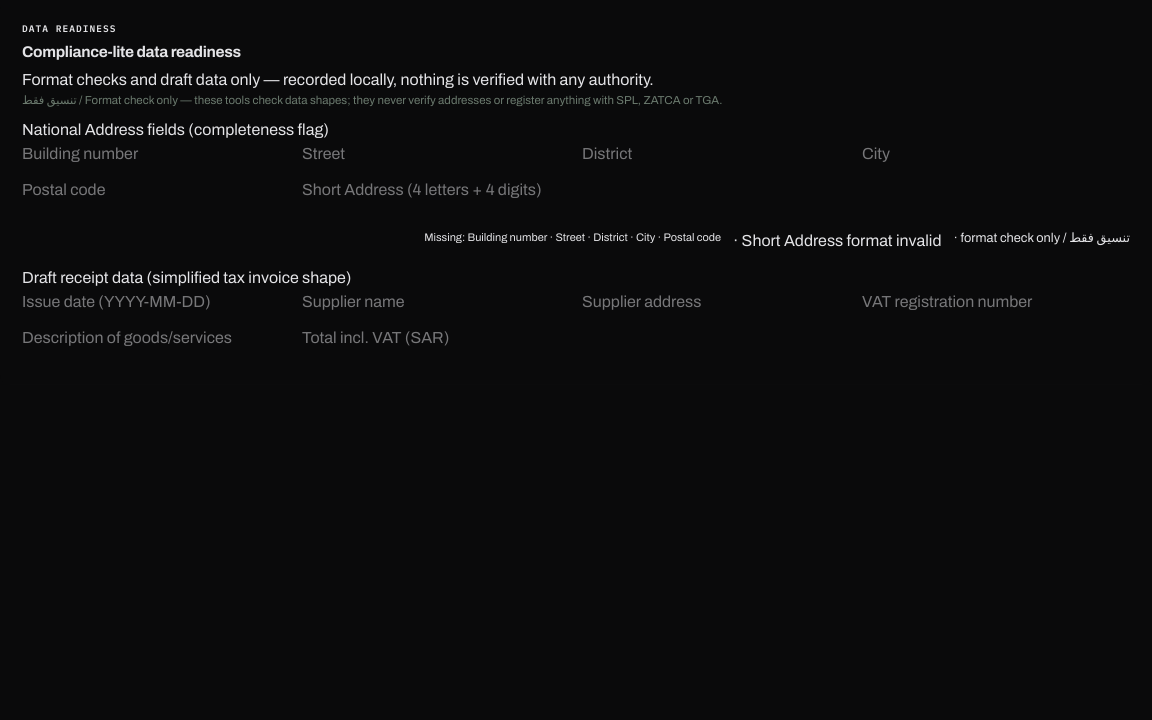
Test: ComplianceLiteView › builds a draft receipt row with derived VAT and a QR payload (EN)
This screenshot has width=1152, height=720.
Type "2026-03-01" into the field labelled "Issue date (YYYY-MM-DD)".
click(156, 302); type("2026-03-01")  # box [22,290,290,314]
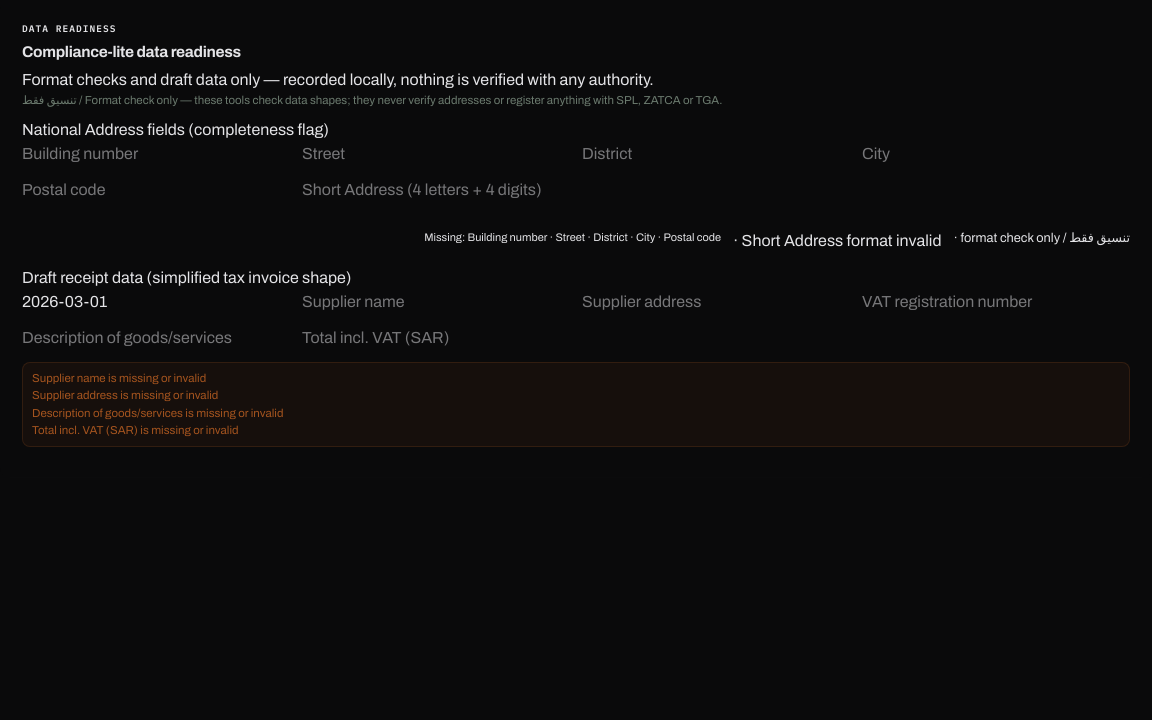
Type "Bobs Records" into the field labelled "Supplier name".
click(436, 302); type("Bobs Records")  # box [302,290,570,314]
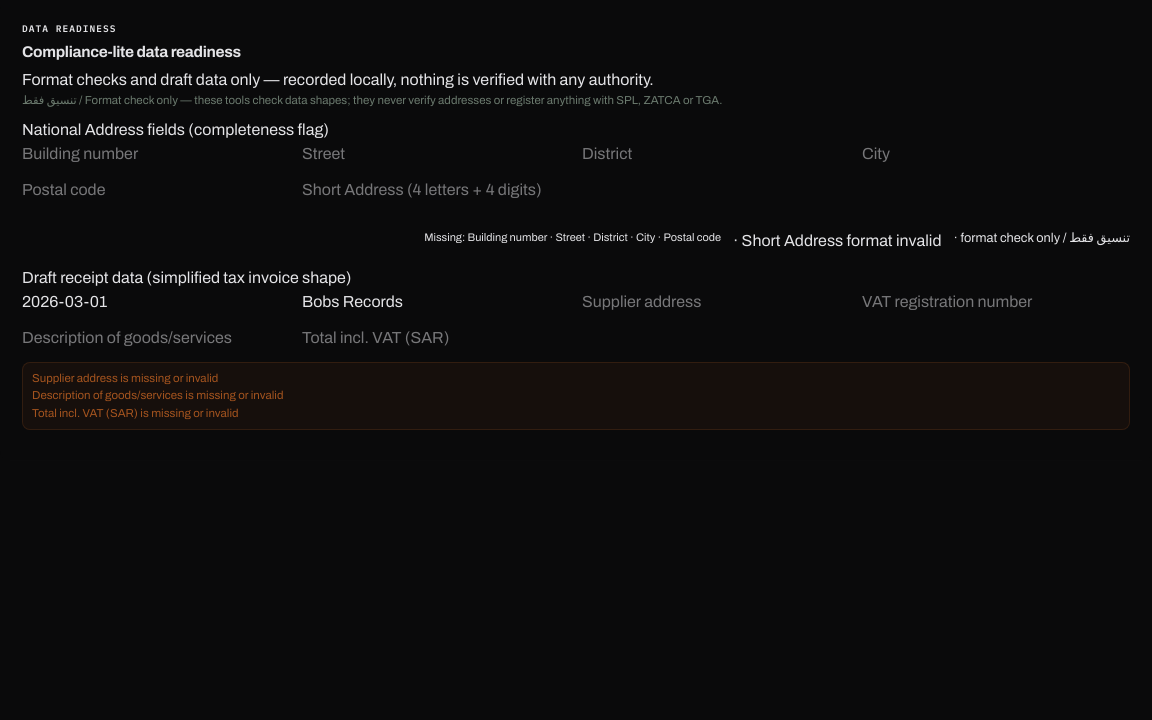
Type "Riyadh" into the field labelled "Supplier address".
click(716, 302); type("Riyadh")  # box [582,290,850,314]
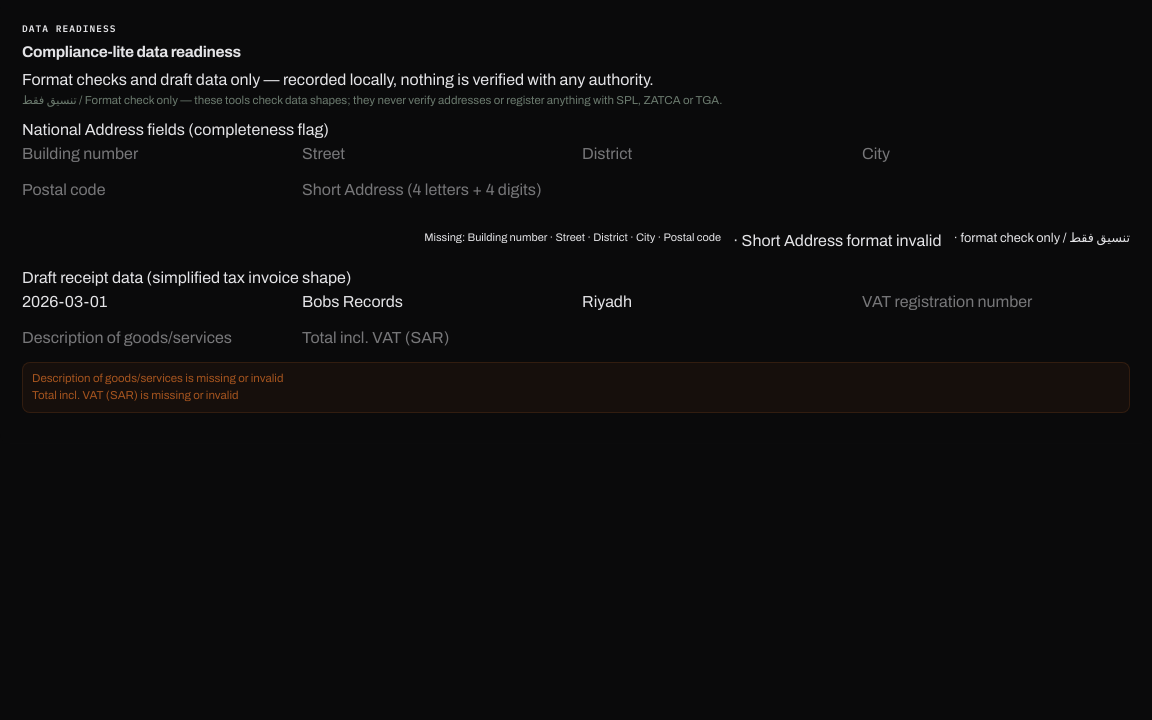
Type "310122393500003" into the field labelled "VAT registration number".
click(996, 302); type("310122393500003")  # box [862,290,1130,314]
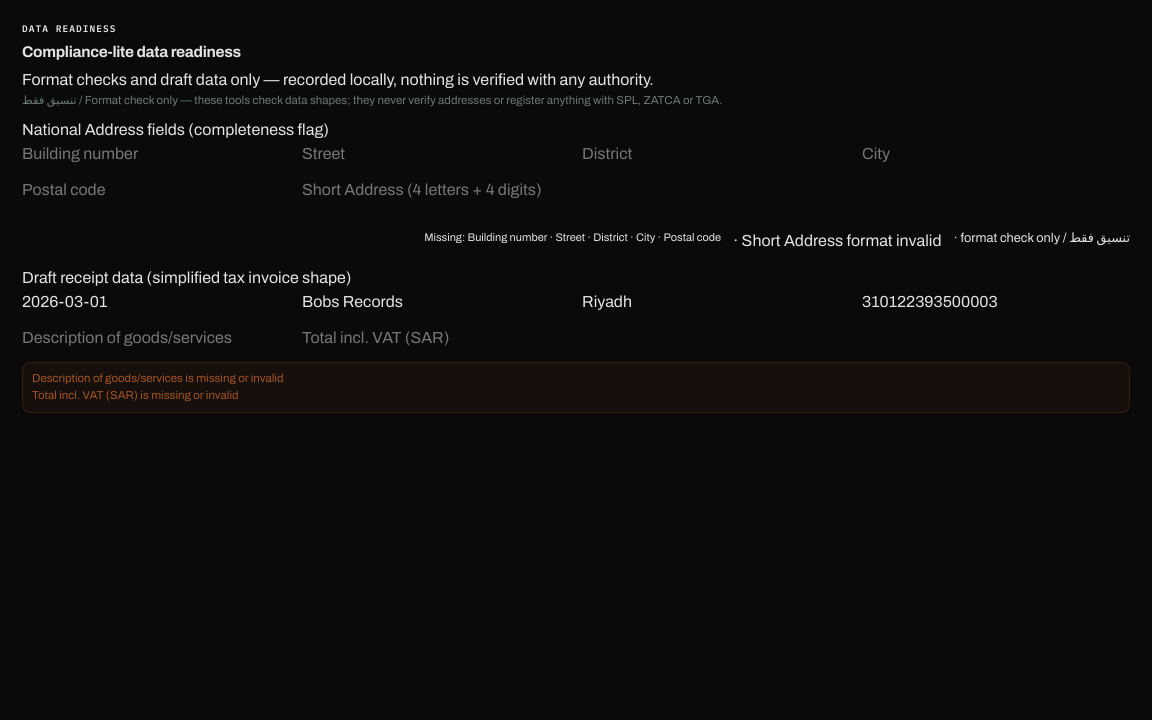
Type "Delivery service" into the field labelled "Description of goods/services".
click(156, 338); type("Delivery service")  # box [22,326,290,350]
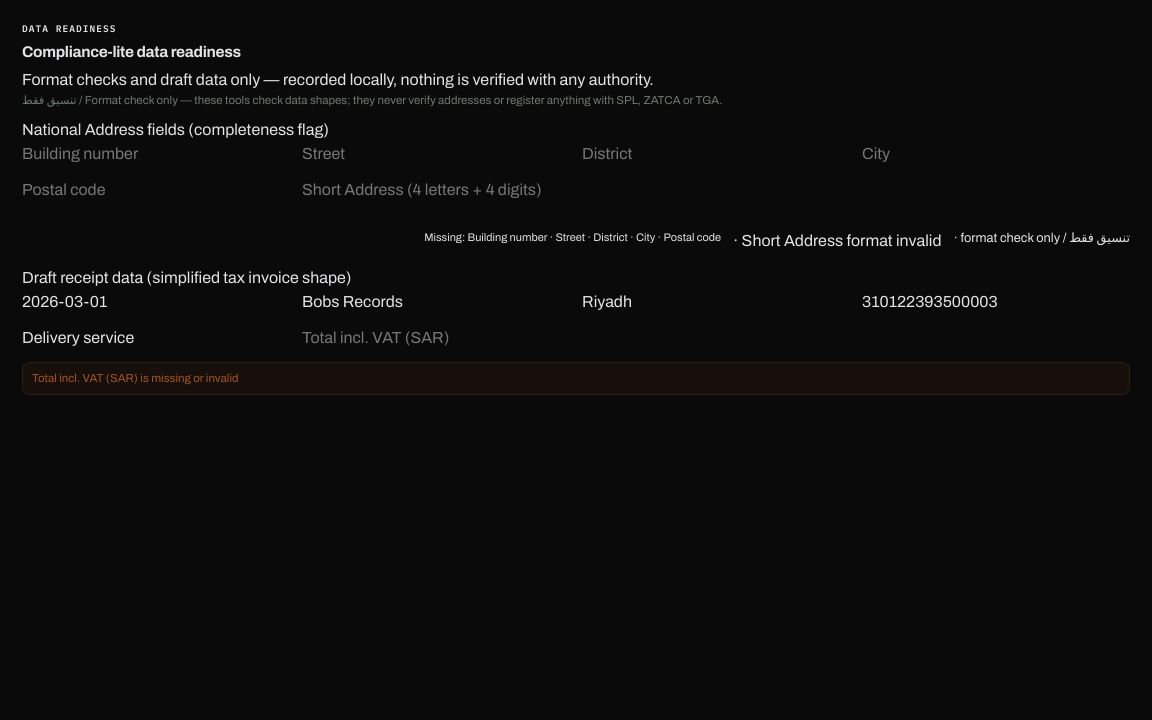
Type "115.00" into the field labelled "Total incl. VAT (SAR)".
click(436, 338); type("115.00")  # box [302,326,570,350]
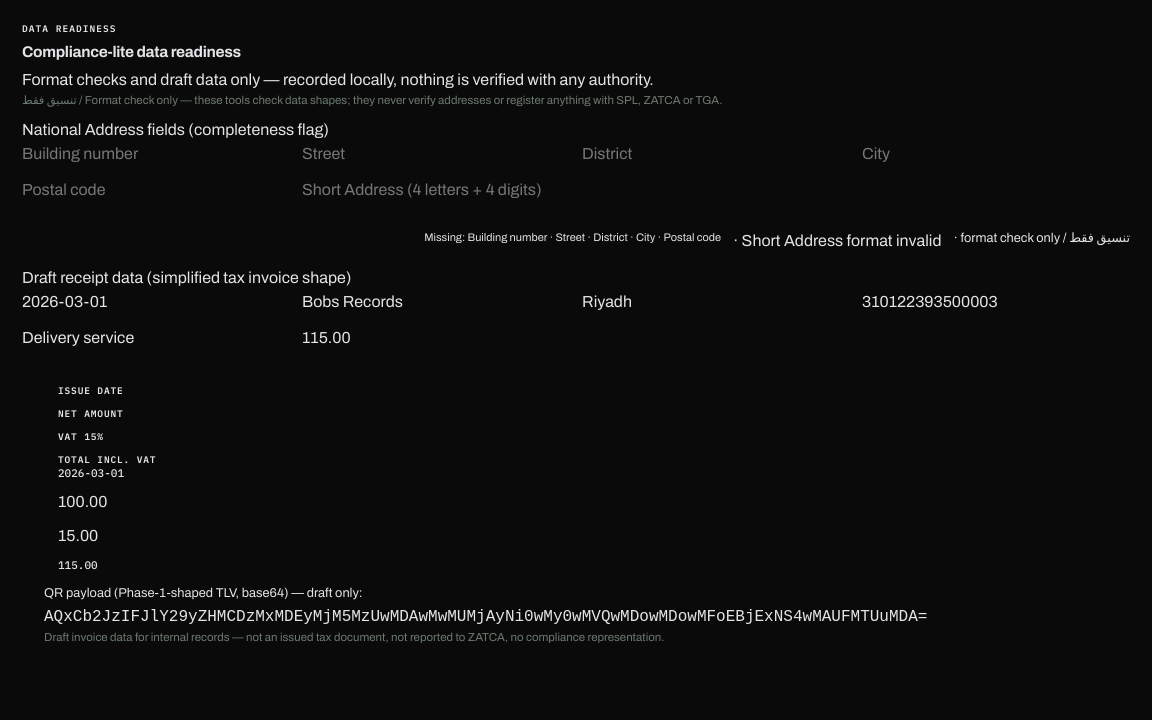
Check: the element with test id "receipt-draft" shows "100.00", box [58,493,108,510]
Check: the element with test id "receipt-draft" shows "15.00", box [58,527,98,544]
Check: the element with test id "receipt-draft" shows "not an issued tax document", box [44,631,664,643]
